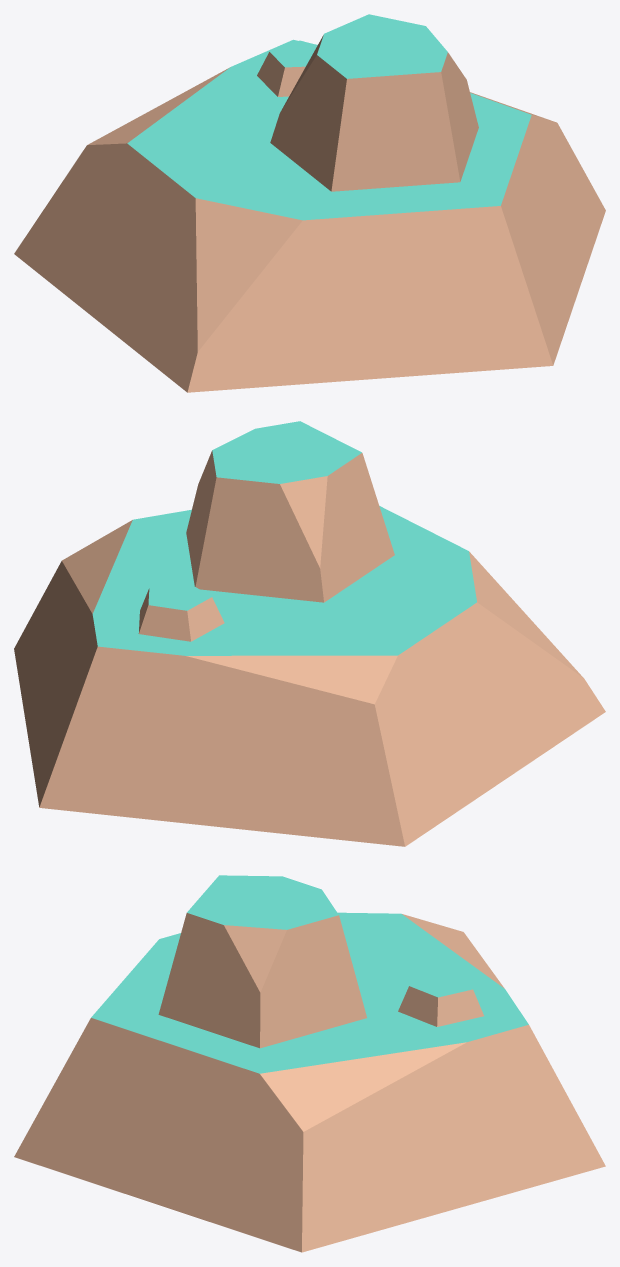
3 renders of one model, top to bottom at view 1: azimuth 30°, elevation 25°; view 2: azimuth 150°, elevation 25°; view 3: azimuth 270°, elevation 25°, orthographic. The views are drawn at different scales.
Parts seen in each view (by area): view 1: rock_smallTopB; view 2: rock_smallTopB; view 3: rock_smallTopB.
Part boxes in pixels (x1,y1,x2,y2): rock_smallTopB: (14, 14, 605, 392); rock_smallTopB: (14, 421, 605, 846); rock_smallTopB: (14, 875, 605, 1252).
Size of the model in its own units: 0.6221 by 0.28 by 0.6463.
